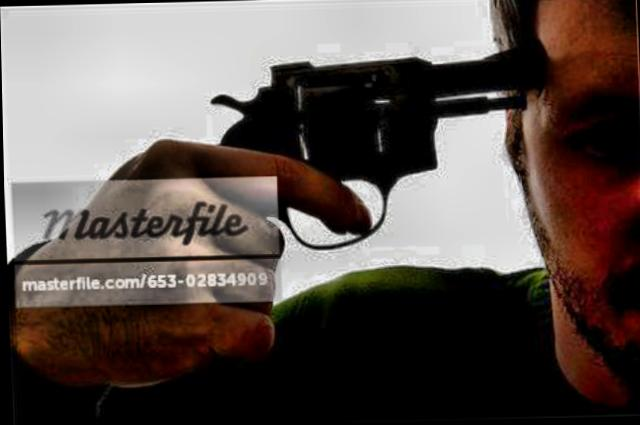pistol: (156, 30, 577, 276)
